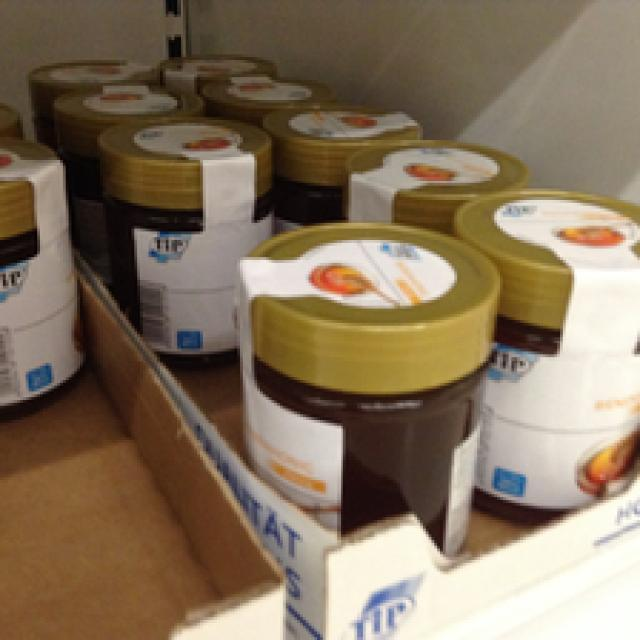groceries: (240, 214, 500, 603), (460, 197, 637, 523), (86, 117, 283, 366)
